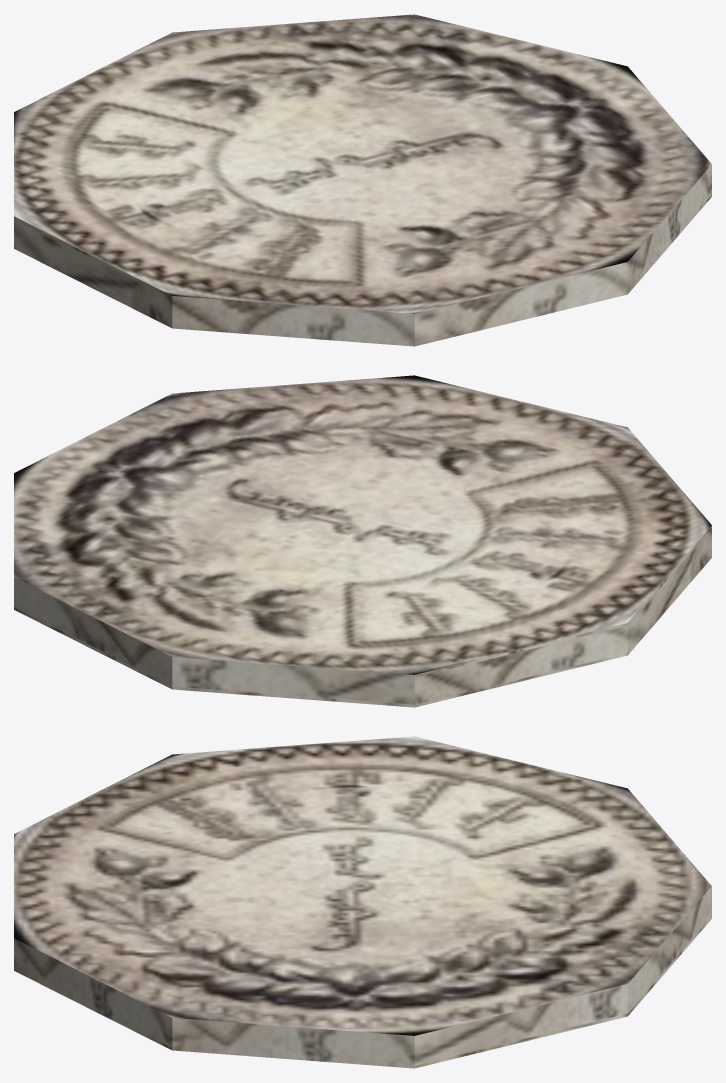
File: Tugrik.glb
3 renders of one model, top to bottom at view 1: azimuth 30°, elevation 25°; view 2: azimuth 150°, elevation 25°; view 3: azimuth 270°, elevation 25°, orthographic.
Visible parts, largest first — view 1: Cylinder; view 2: Cylinder; view 3: Cylinder.
Boxes of the visible parts, box(x1,y1,x2,y2) form: Cylinder: box(14, 14, 711, 346); Cylinder: box(14, 375, 711, 707); Cylinder: box(14, 736, 711, 1068).
Bounding box in the file's own units: 0.197 × 0.01 × 0.194.
1 material, 1 textured.
